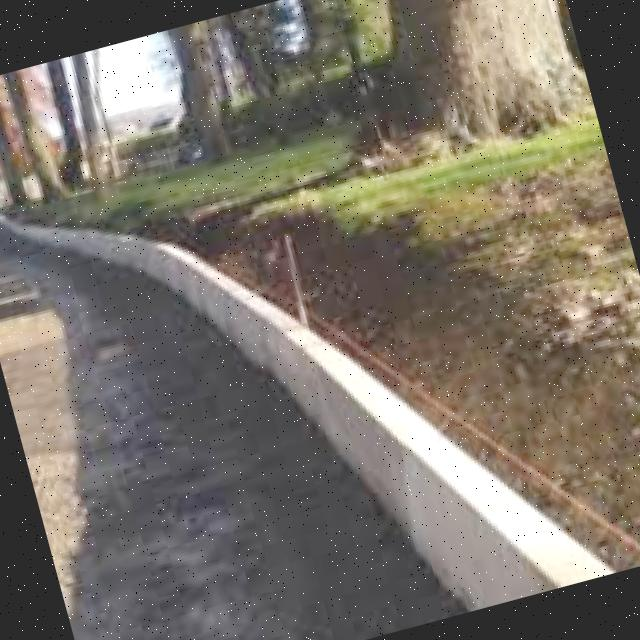curb: (409, 426, 619, 604), (324, 354, 426, 536), (276, 319, 344, 432)
